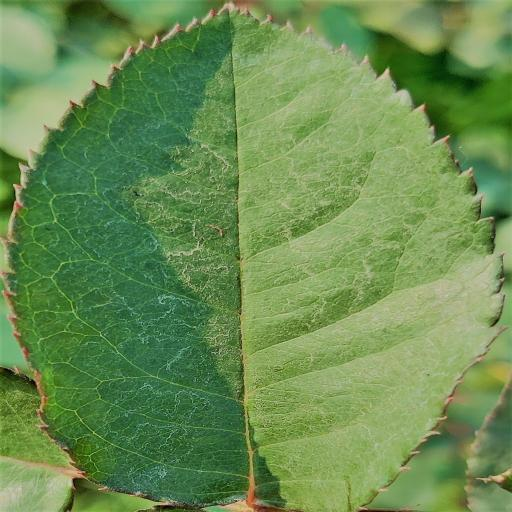healthy_leaf: (0, 5, 503, 512)
